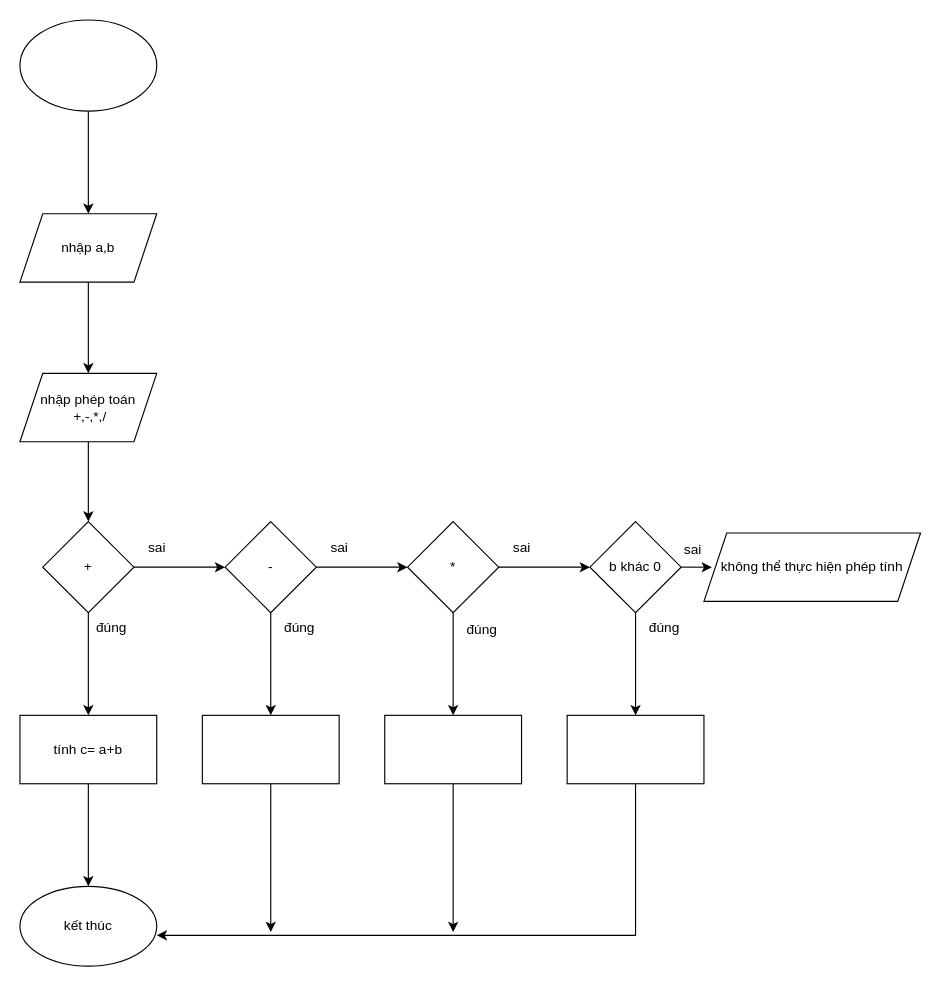
This 941x986 diagram has some shape labels left out. Each missing label, with the centre of its shape:
"bắt đầu" belongs at (x=88, y=65).
"tính c= a*b" belongs at (x=453, y=749).
"tính c= a-b" belongs at (x=270, y=749).
"tính c= a/b" belongs at (x=635, y=749).
